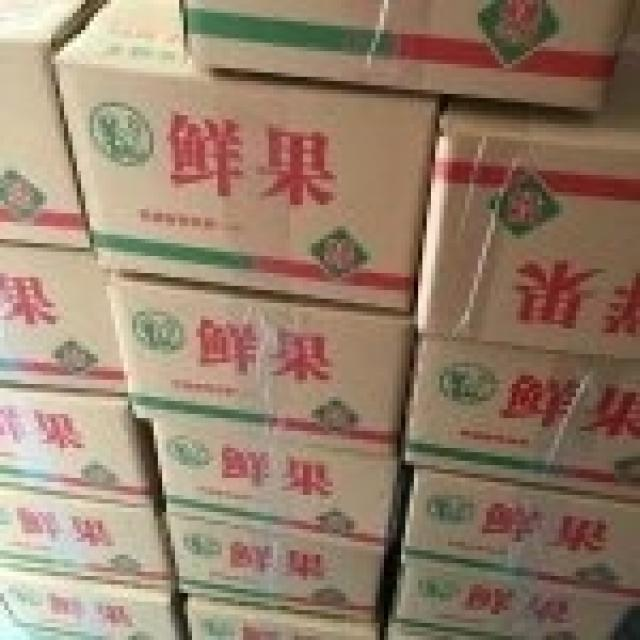box: (55, 0, 444, 320), (418, 98, 640, 363), (102, 273, 418, 457), (188, 0, 636, 115), (405, 333, 640, 499), (137, 418, 405, 546), (405, 465, 640, 602), (166, 512, 405, 614), (397, 550, 631, 640), (0, 486, 183, 593), (0, 247, 128, 397), (0, 388, 162, 503), (0, 576, 188, 640), (188, 593, 380, 640), (388, 614, 610, 640)
